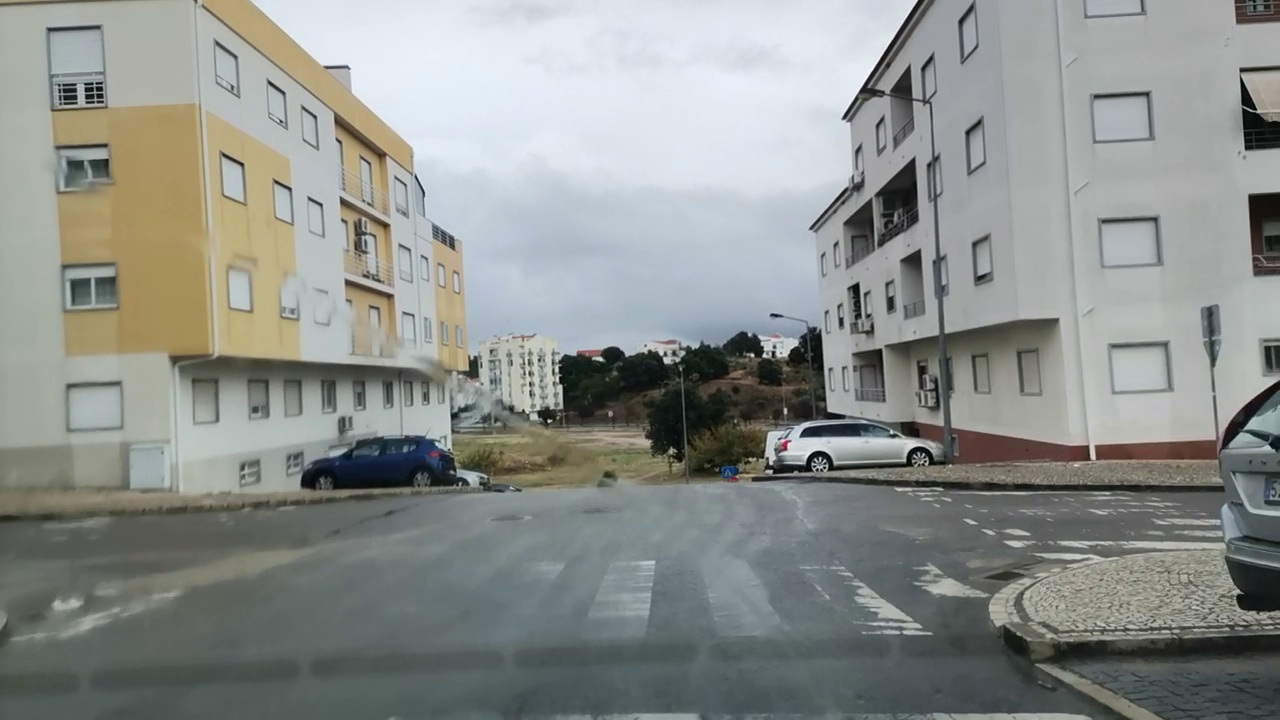Stairs: (122, 560, 1002, 653), (896, 482, 1221, 561)
